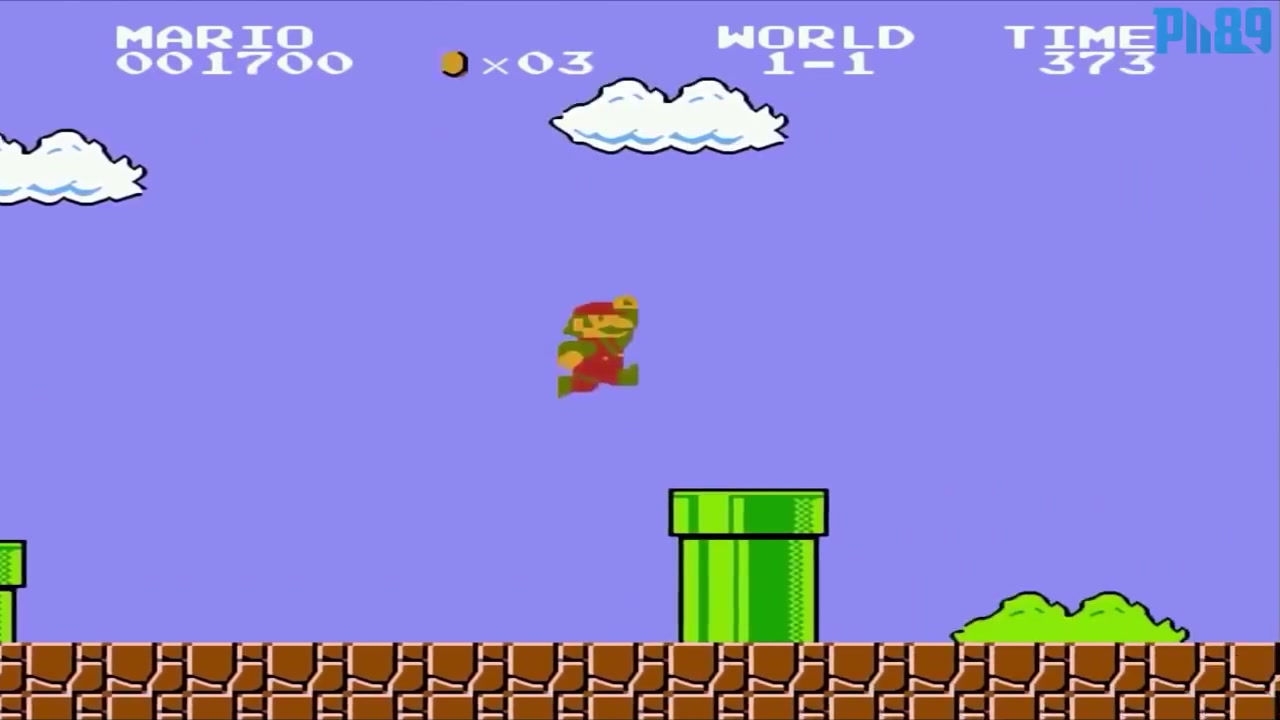mario: (544, 289, 646, 405)
